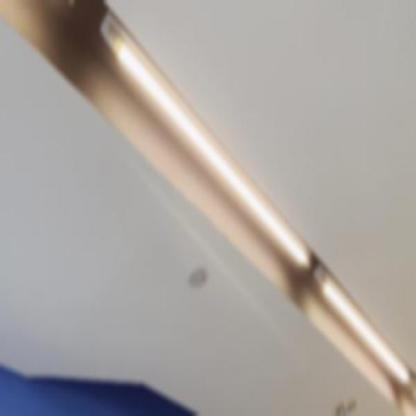light_on: (94, 2, 312, 277), (310, 250, 410, 404), (34, 0, 86, 19), (415, 373, 415, 415)
